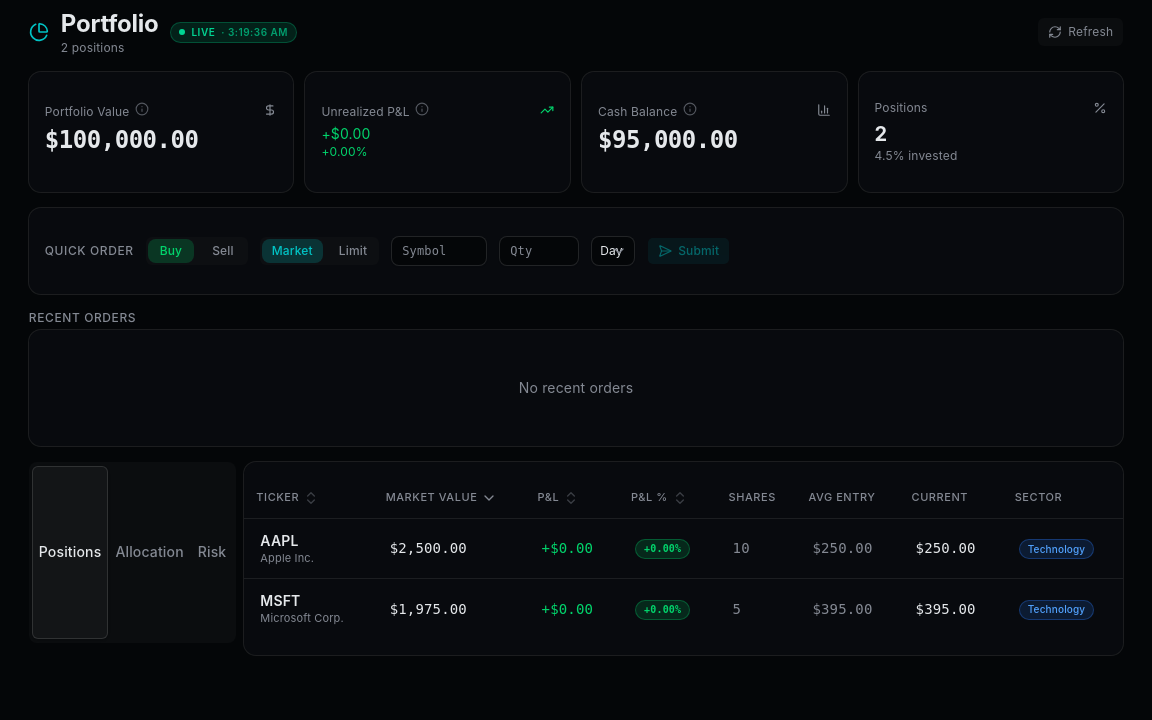
Test: PortfolioPage › displays risk-block reason for concentration limit
The width and height of the screenshot is (1152, 720).
Check: the text "Quick Order" is shown, box top-left (45, 243), bottom-right (134, 259)
Type "AAPL" into the field with placeholder "Symbol" at (439, 251), box top-left (391, 236), bottom-right (487, 266)
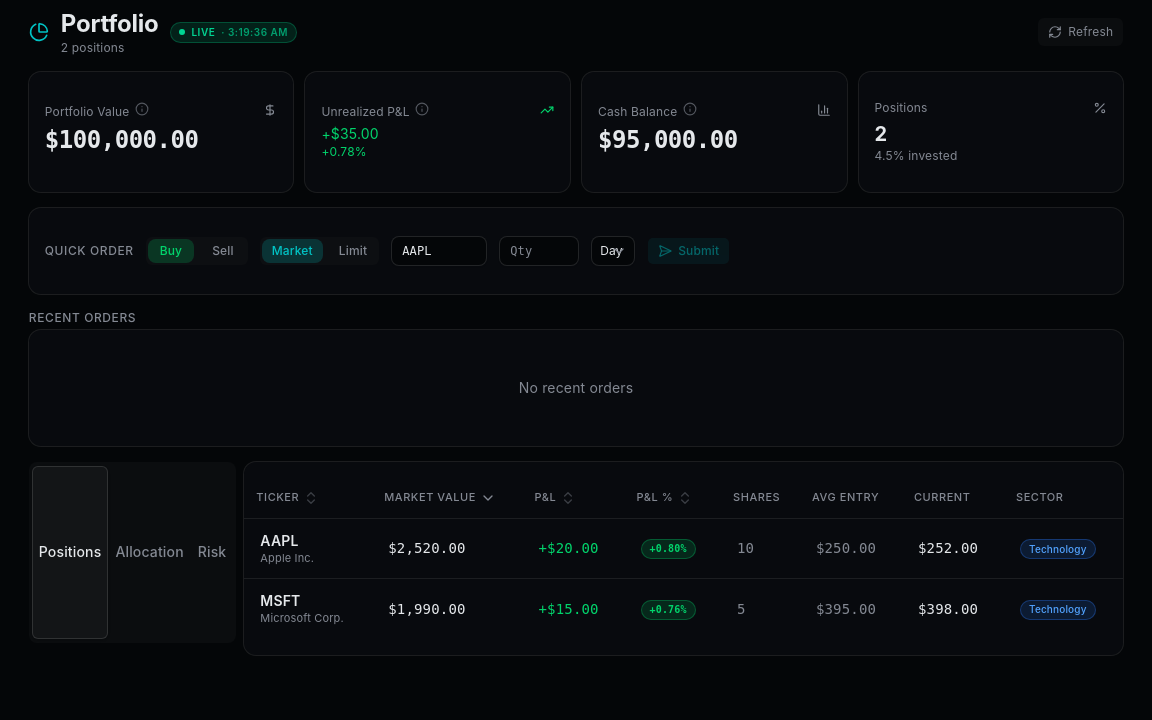
Type "500" into the number field with placeholder "Qty" at (539, 251), box top-left (499, 236), bottom-right (579, 266)
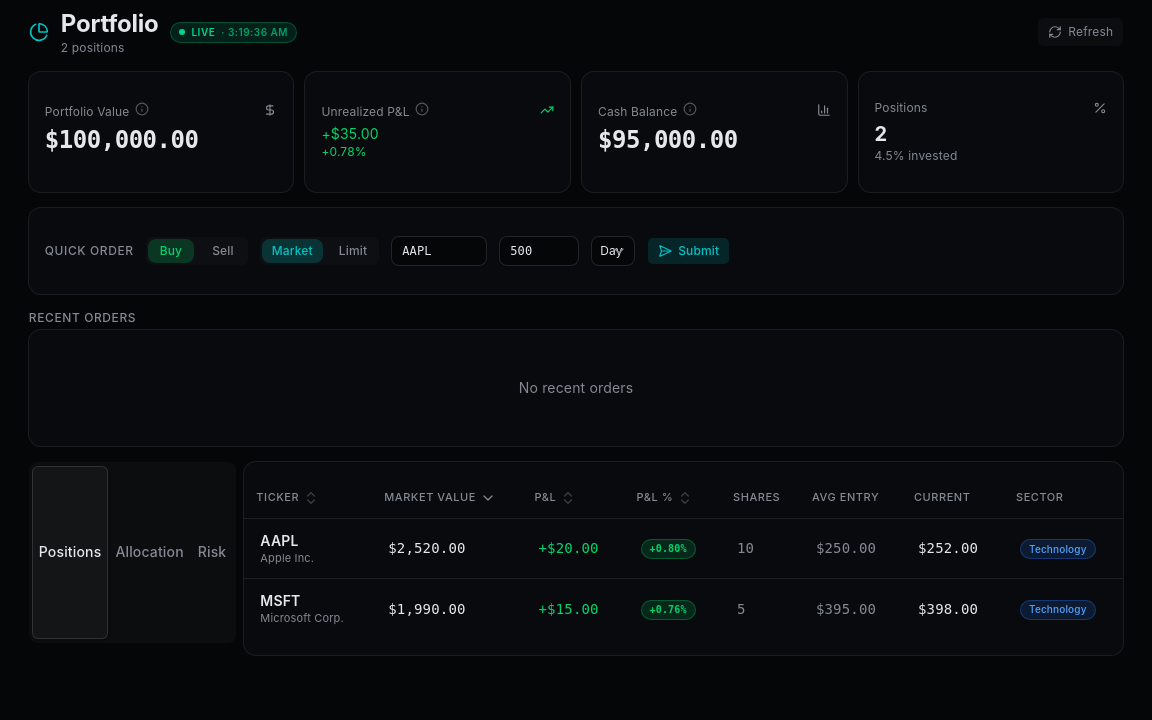
Click the button "Submit" at (689, 251), box top-left (647, 237), bottom-right (730, 265)
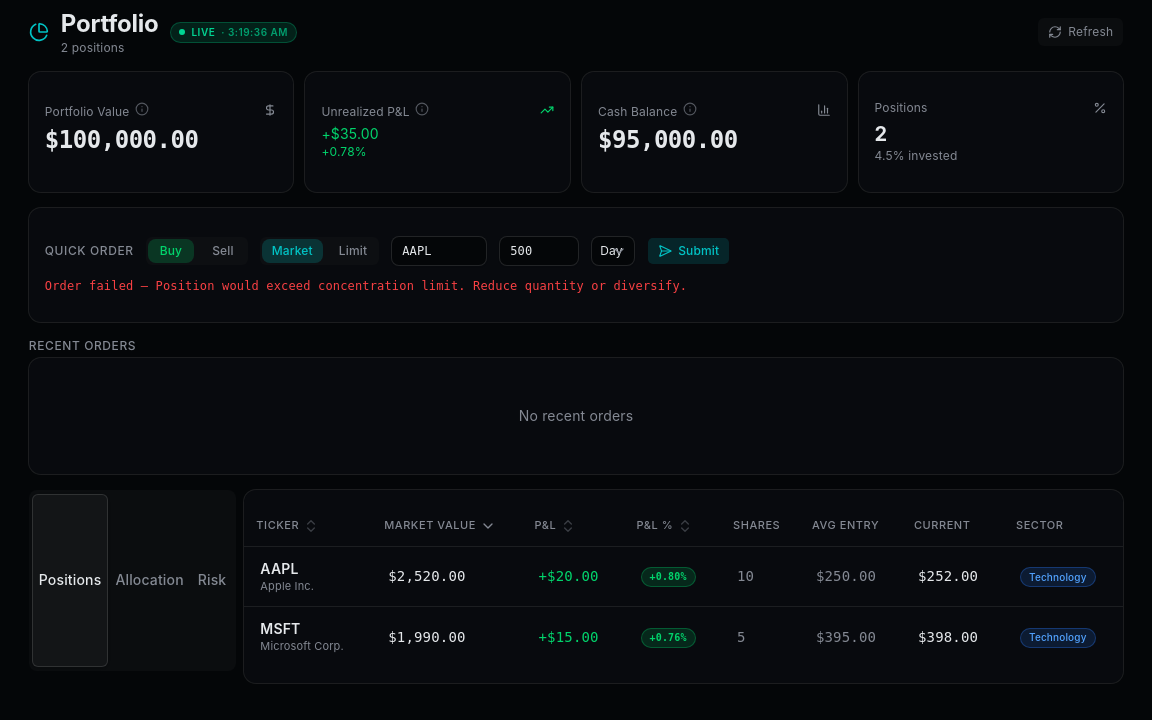
Check: the text "concentration limit" is shown, box top-left (45, 279), bottom-right (687, 293)
